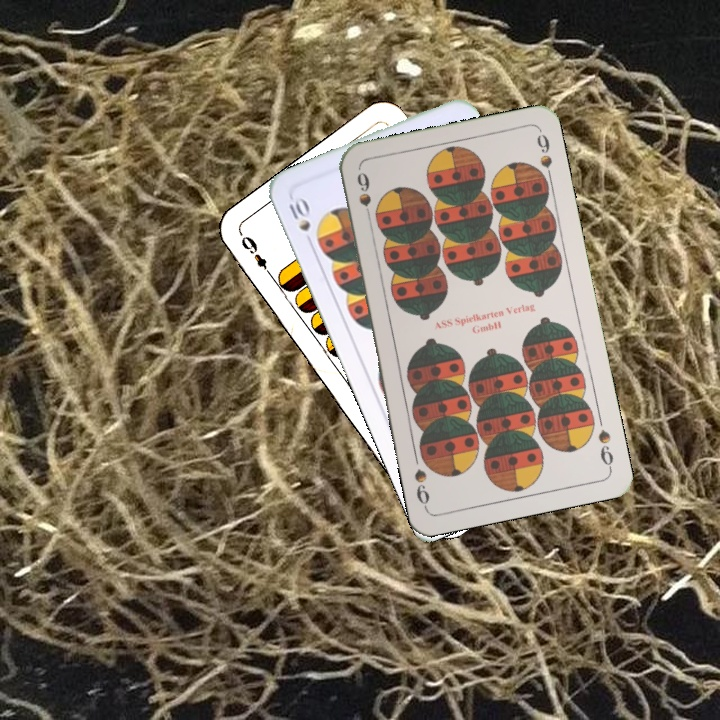E9: (236, 230, 276, 281)
S10: (285, 192, 316, 250)
S9: (352, 168, 375, 226), (594, 425, 616, 472)
